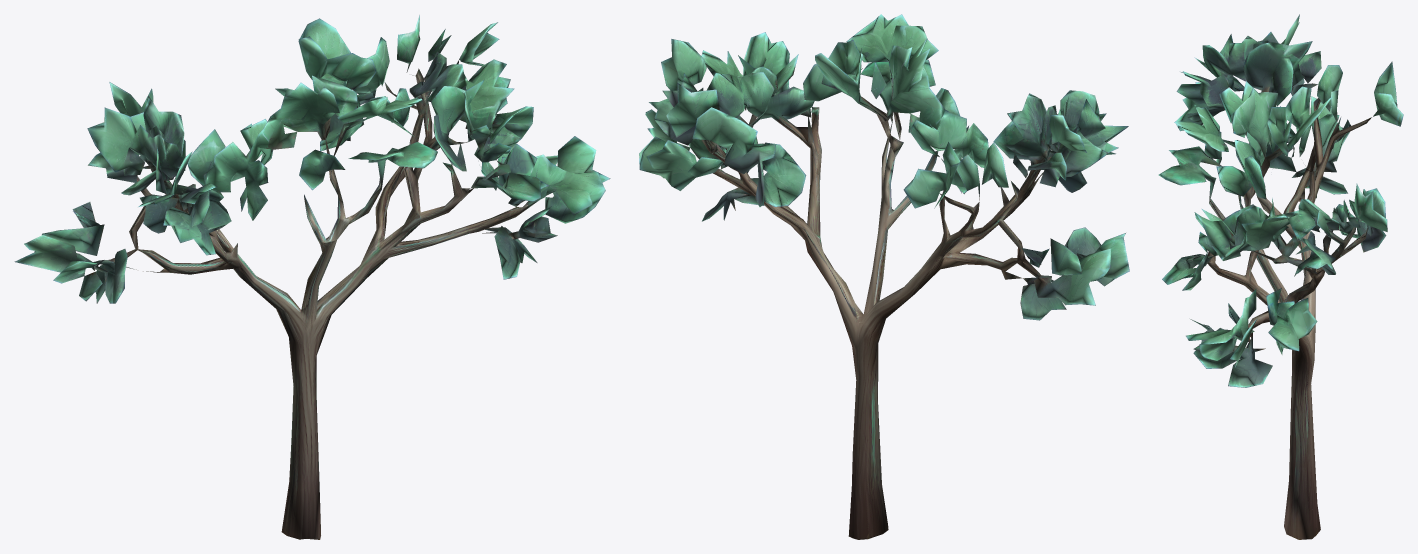
3 renders of one model, left to right at view 1: azimuth 30°, elevation 25°; view 2: azimuth 150°, elevation 25°; view 3: azimuth 270°, elevation 25°, orthographic. The views are drawn at different scales.
Visible parts, largest first — view 1: Mesh_0; view 2: Mesh_0; view 3: Mesh_0.
Part boxes in pixels (bbox=[...]): Mesh_0: bbox=[14, 15, 610, 539]; Mesh_0: bbox=[639, 14, 1129, 539]; Mesh_0: bbox=[1158, 14, 1403, 539].
Size of the model in its own units: 1.9 by 1.71 by 0.8472.
1 material, 1 textured.
